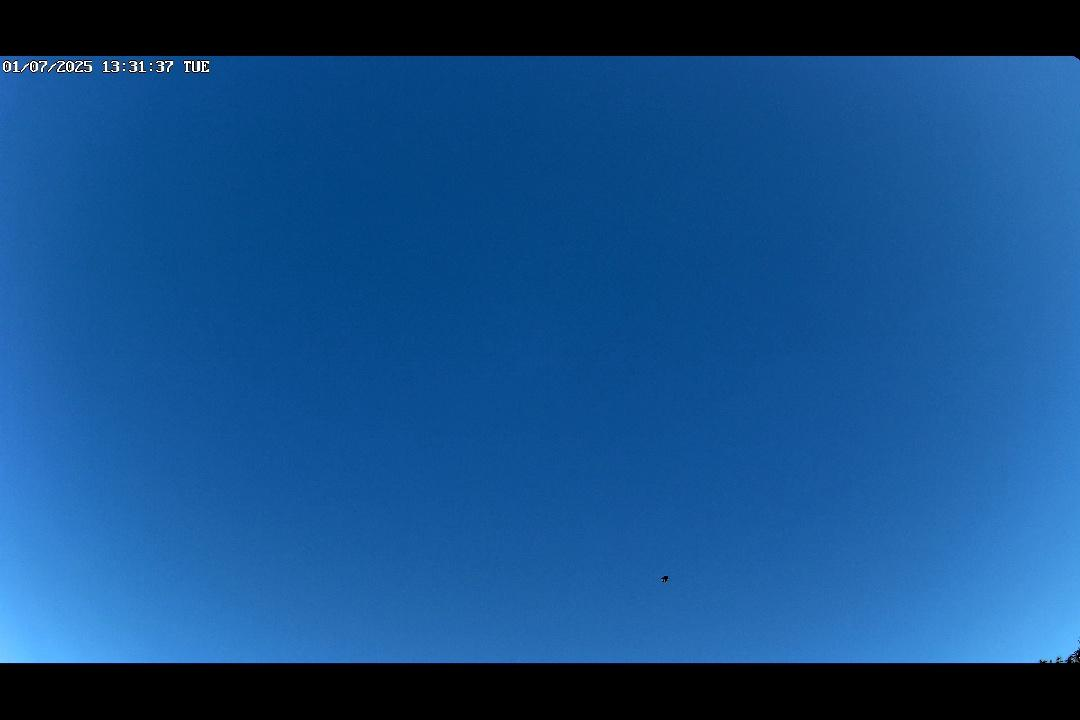WildLife: (653, 565, 679, 587)
